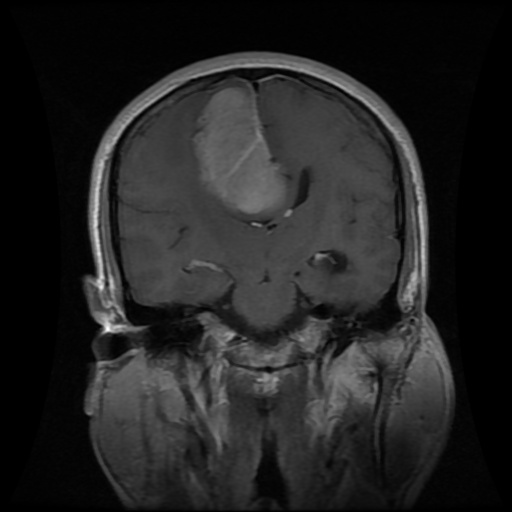meningioma: (190, 85, 286, 219)
